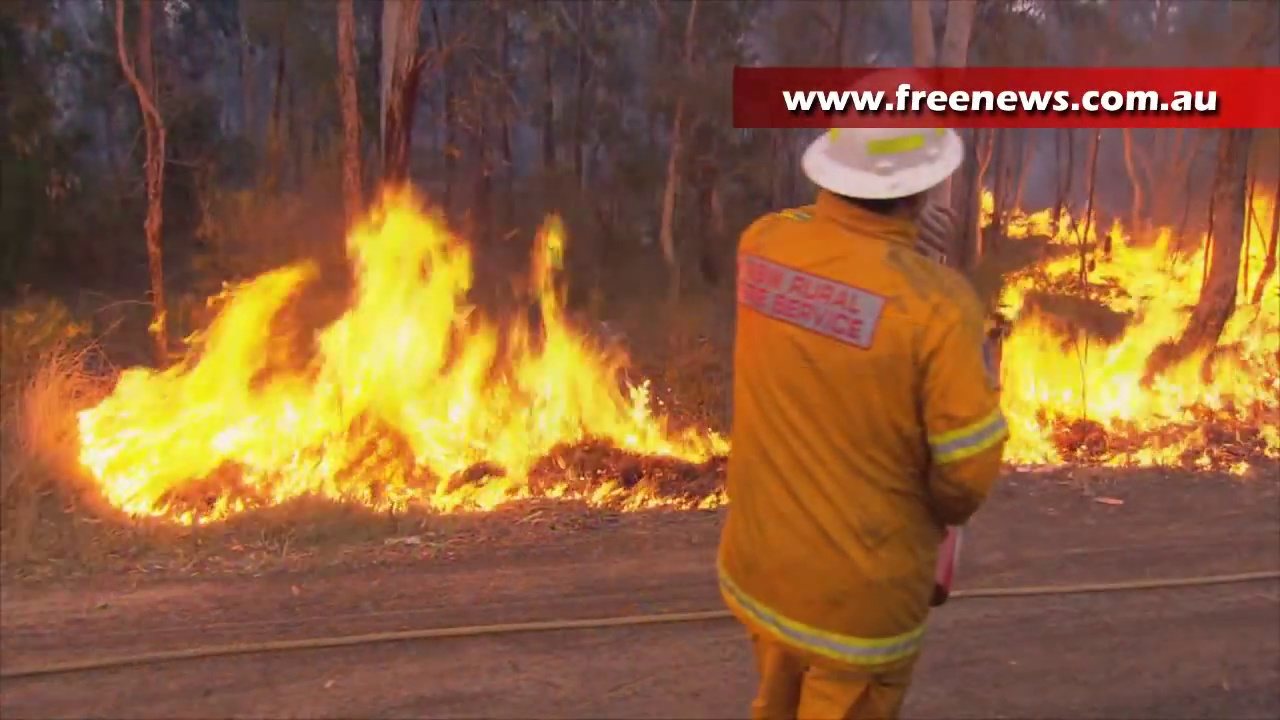fire: (73, 192, 699, 509), (994, 201, 1280, 469)
